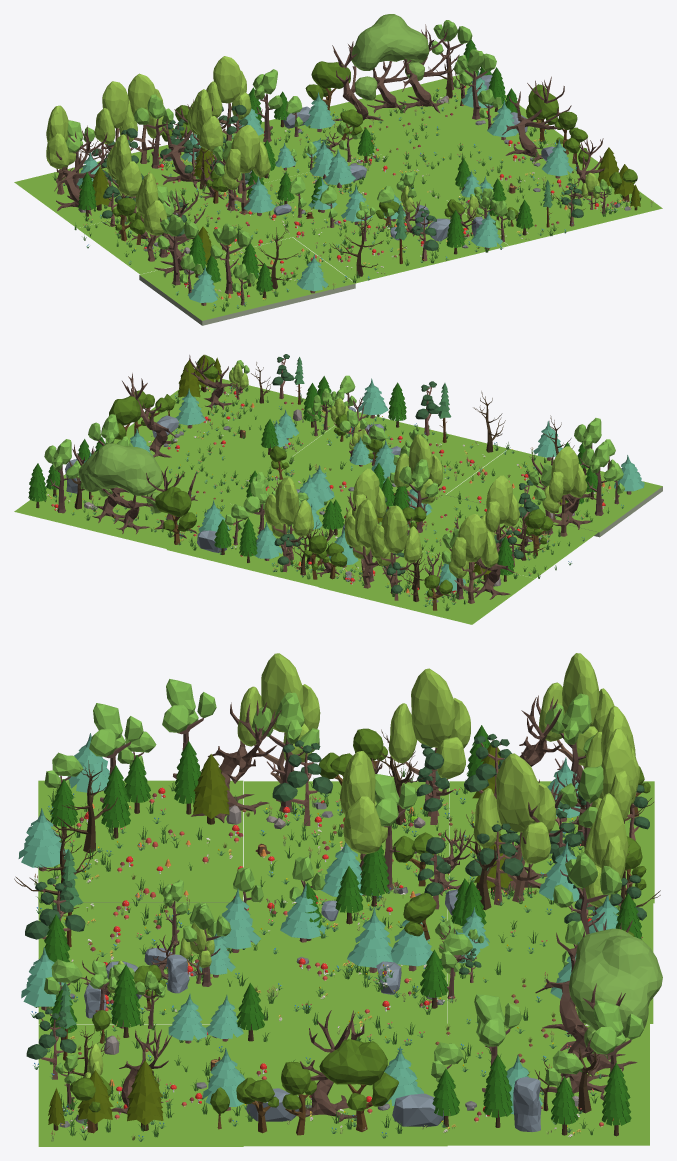
File: Level_1_Mainworld.fbx
3 renders of one model, top to bottom at view 1: azimuth 30°, elevation 25°; view 2: azimuth 150°, elevation 25°; view 3: azimuth 270°, elevation 25°, orthographic. The views are drawn at different scales.
Visible parts, largest first — view 1: BG_Cube.013, Tree5_2.074, Tree1.028, Tree1.026, Tree1.024, Tree1.025, Tree1.023, Tree1.022, Tree1.021, Tree1.029, Tree5_1.055, Tree1_1.020 (+34 smaller); view 2: BG_Cube.013, Tree5_2.074, Tree1.023, Tree1.024, Tree1.026, Tree1.021, Tree1.025, Tree1.022, Tree1.028, Tree1_1.020, Tree1.029, Tree2_1.146 (+38 smaller); view 3: BG_Cube.013, Tree5_2.074, Tree1.029, Tree1.022, Tree1.021, Tree1_1.019, Tree1.028, Tree1.023, Tree1.026, Tree1.025, Tree2_1.150, Tree2_1.159 (+73 smaller).
Part boxes in pixels (left/top/right/bottom): BG_Cube.013: left=14, top=73, right=662, bottom=325; Tree5_2.074: left=351, top=14, right=429, bottom=113; Tree1.028: left=222, top=125, right=270, bottom=214; Tree1.026: left=206, top=56, right=251, bottom=140; Tree1.024: left=94, top=81, right=137, bottom=150; Tree1.025: left=118, top=73, right=165, bottom=163; Tree1.023: left=46, top=105, right=76, bottom=194; Tree1.022: left=106, top=134, right=142, bottom=222; Tree1.021: left=135, top=173, right=167, bottom=261; Tree1.029: left=187, top=89, right=223, bottom=153; Tree5_1.055: left=502, top=76, right=571, bottom=164; Tree1_1.020: left=305, top=61, right=350, bottom=110; BG_Cube.013: left=14, top=378, right=662, bottom=624; Tree5_2.074: left=78, top=443, right=162, bottom=533; Tree1.023: left=449, top=514, right=498, bottom=603; Tree1.024: left=371, top=505, right=421, bottom=594; Tree1.026: left=264, top=477, right=313, bottom=566; Tree1.021: left=542, top=446, right=587, bottom=536; Tree1.025: left=344, top=499, right=389, bottom=588; Tree1.022: left=481, top=475, right=519, bottom=563; Tree1.028: left=394, top=434, right=442, bottom=525; Tree1_1.020: left=155, top=486, right=196, bottom=544; Tree1.029: left=344, top=468, right=386, bottom=558; Tree2_1.146: left=582, top=441, right=617, bottom=515; BG_Cube.013: left=38, top=780, right=654, bottom=1146; Tree5_2.074: left=569, top=928, right=662, bottom=1076; Tree1.029: left=473, top=753, right=555, bottom=902; Tree1.022: left=388, top=668, right=470, bottom=816; Tree1.021: left=237, top=653, right=320, bottom=801; Tree1_1.019: left=319, top=1039, right=398, bottom=1131; Tree1.028: left=340, top=751, right=387, bottom=895; Tree1.023: left=539, top=653, right=614, bottom=784; Tree1.026: left=580, top=793, right=628, bottom=919; Tree1.025: left=590, top=728, right=637, bottom=828; Tree2_1.150: left=251, top=692, right=319, bottom=812; Tree2_1.159: left=553, top=853, right=621, bottom=934.
Size of the model in its own units: 11359 by 2135 by 8267.
